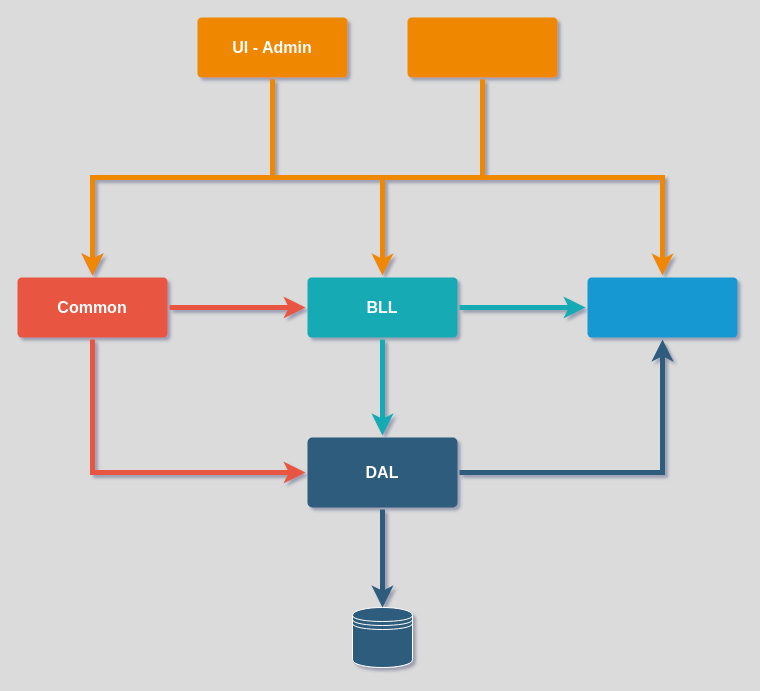
Image size: 760x691. Some labels were removed from this diagram. The shapes that lost their labels are listed below. From the top down, each one's box as (x1, y1, x2, y2) in pixels, then its label:
(407, 17, 557, 77): UI - API
(587, 277, 737, 337): Core
